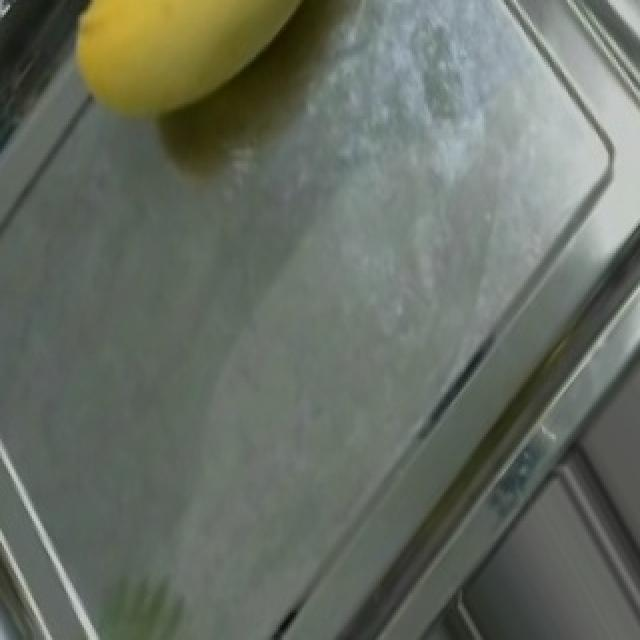fruit: (38, 0, 358, 169)
